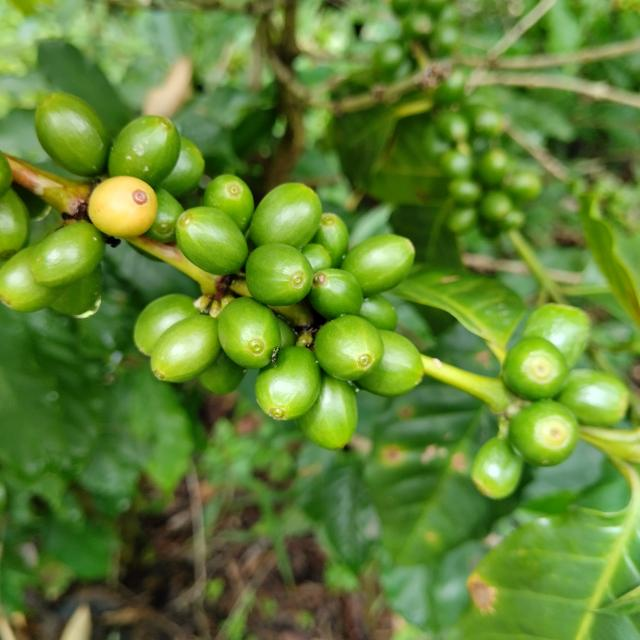green: (34, 92, 111, 176), (108, 115, 180, 185), (175, 206, 248, 275), (255, 346, 321, 421), (150, 314, 221, 383), (249, 182, 322, 249), (30, 221, 104, 287), (341, 234, 416, 297), (297, 374, 358, 450), (510, 400, 579, 467), (314, 315, 384, 381), (217, 297, 281, 369), (356, 330, 424, 397), (246, 243, 314, 306), (557, 369, 630, 427), (503, 337, 569, 401), (133, 294, 199, 356), (0, 245, 60, 312), (471, 438, 524, 500), (203, 174, 254, 231), (309, 268, 364, 320), (159, 137, 204, 196), (144, 187, 184, 242), (312, 212, 349, 268), (198, 352, 246, 395), (0, 188, 28, 260), (360, 294, 398, 331), (301, 243, 332, 272)
red: (87, 175, 157, 238)
